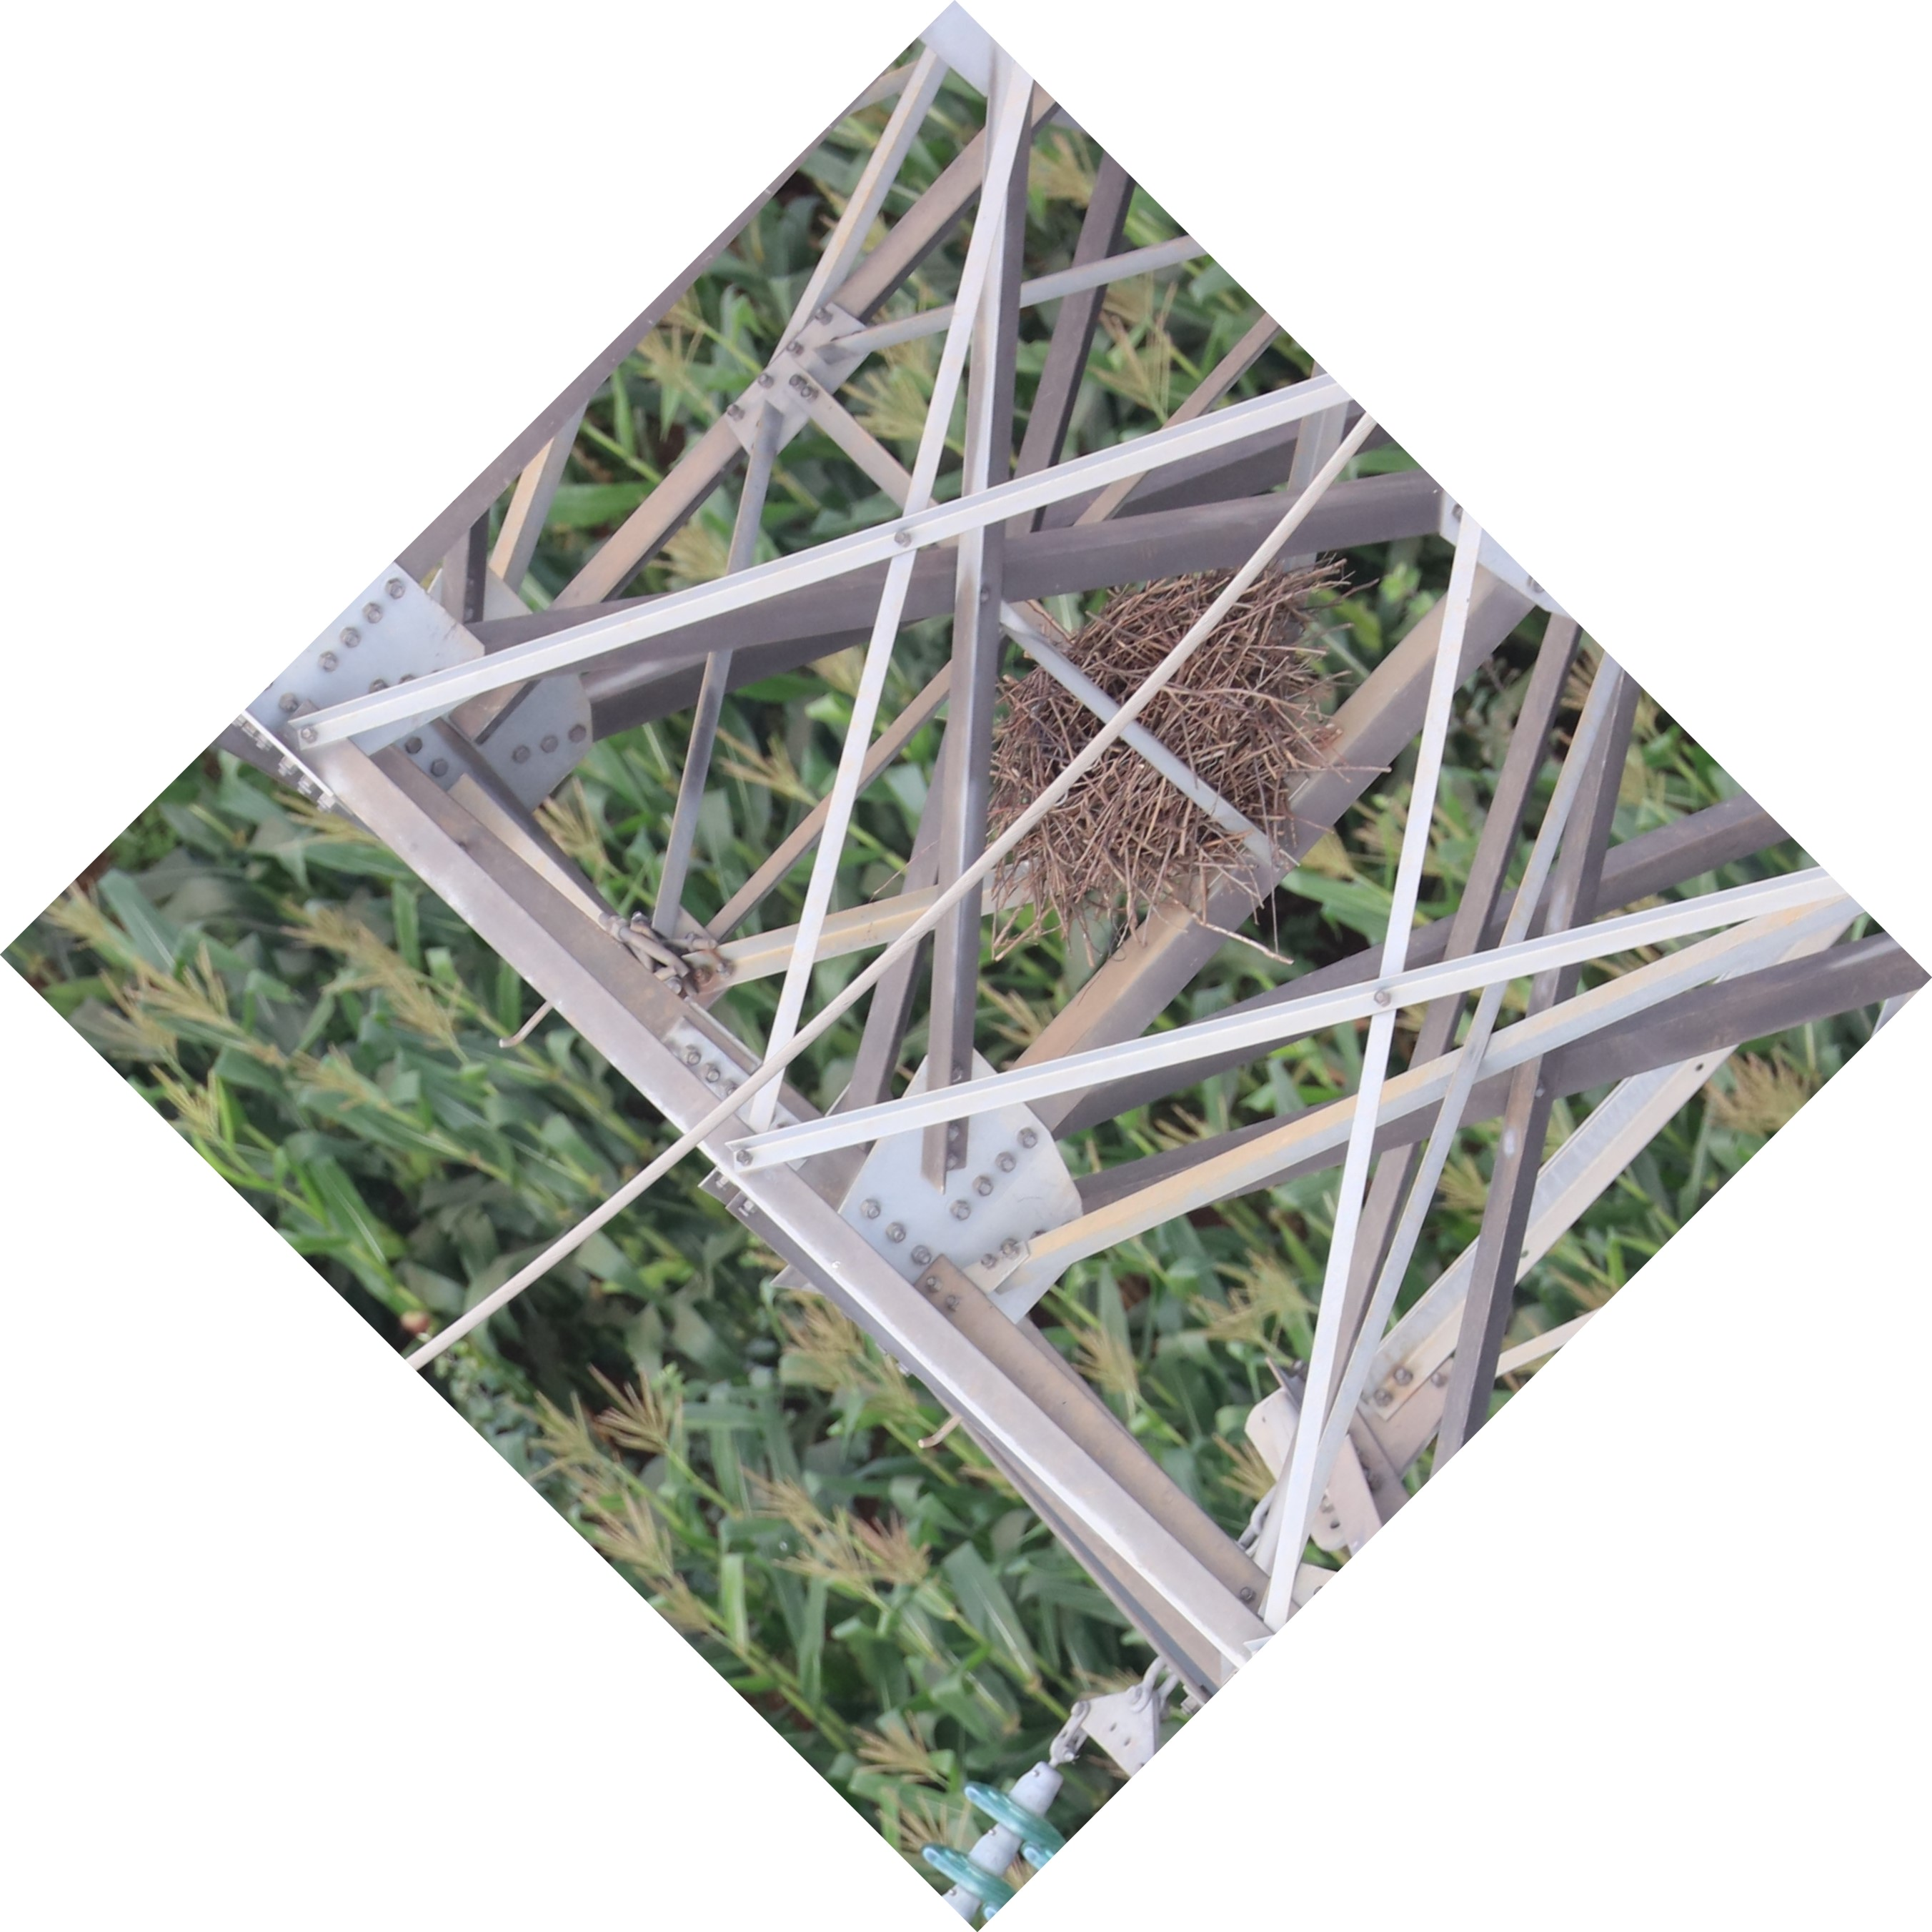niaowo: (936, 540, 1391, 943)
